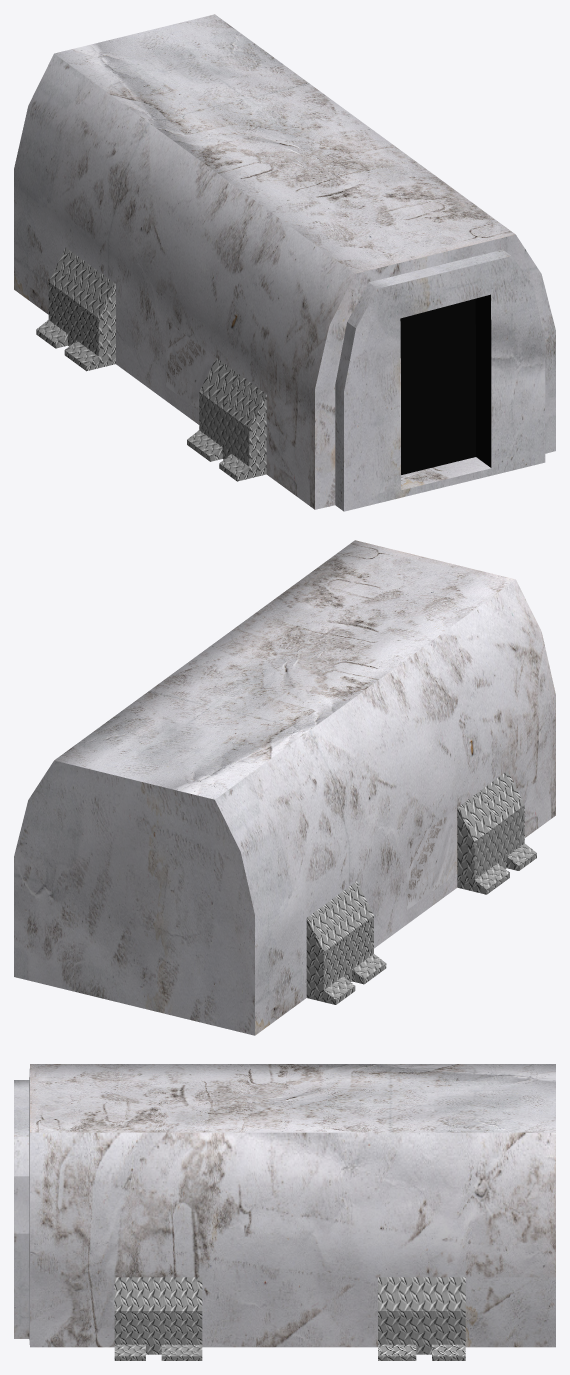
Rendered from hutt.fbx.
The picture shows the model from 3 angles, top to bottom: view 1: azimuth 30°, elevation 25°; view 2: azimuth 150°, elevation 25°; view 3: azimuth 270°, elevation 25°; orthographic projection. The views are drawn at different scales.
Visible parts, largest first — view 1: pCube1; view 2: pCube1; view 3: pCube1.
Part boxes in pixels (x1,y1,x2,y2): pCube1: (14,14,555,511); pCube1: (14,540,555,1035); pCube1: (14,1064,555,1360).
Bounding box in the file's own units: 15.88 × 11.37 × 28.25.
